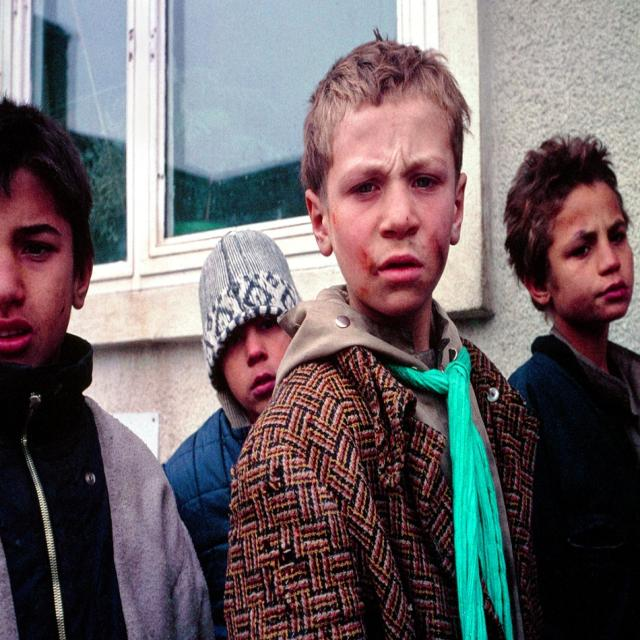body: (208, 23, 562, 639), (0, 96, 214, 640), (502, 130, 640, 640), (160, 223, 303, 640)
